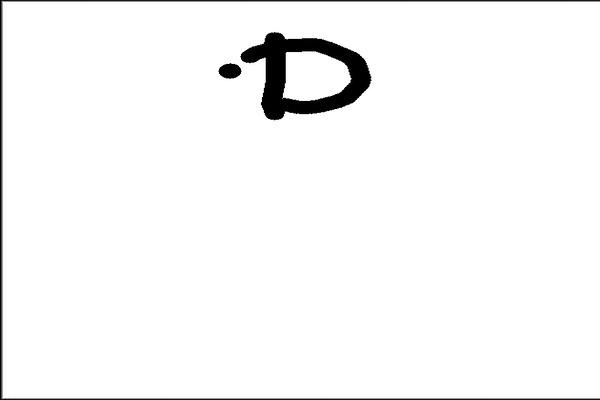D: (216, 26, 381, 121)
